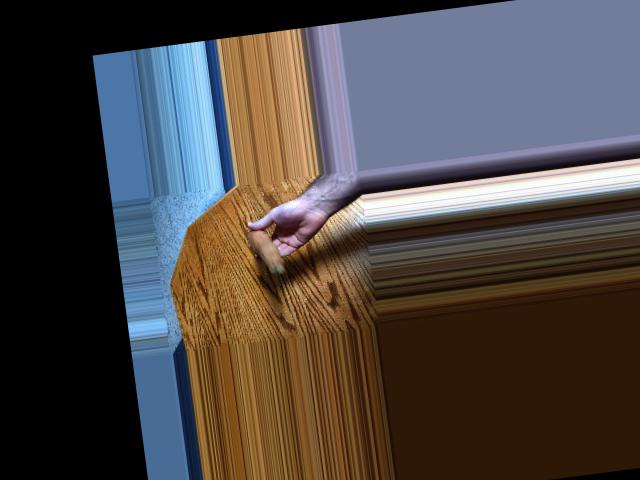sweet_potato: (247, 222, 288, 278)
